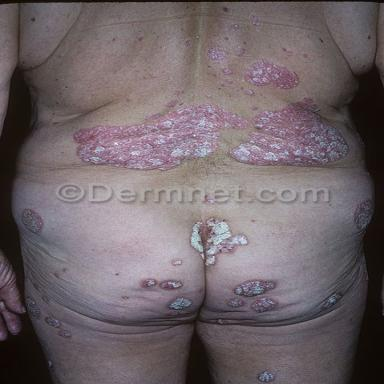Psoriasis: (73, 103, 248, 170), (229, 97, 349, 165), (191, 218, 248, 266), (242, 59, 299, 89), (234, 281, 275, 297), (354, 199, 373, 229), (21, 209, 44, 233), (251, 298, 276, 312), (322, 293, 343, 308), (169, 298, 192, 310), (206, 48, 227, 61), (26, 297, 39, 318), (258, 371, 275, 382), (160, 281, 183, 289), (45, 317, 61, 328), (142, 278, 158, 287), (229, 299, 244, 307), (250, 14, 260, 25), (165, 100, 177, 107), (59, 330, 71, 337), (222, 67, 232, 75), (237, 47, 246, 55), (42, 295, 51, 303), (172, 260, 182, 265), (246, 89, 254, 95)
